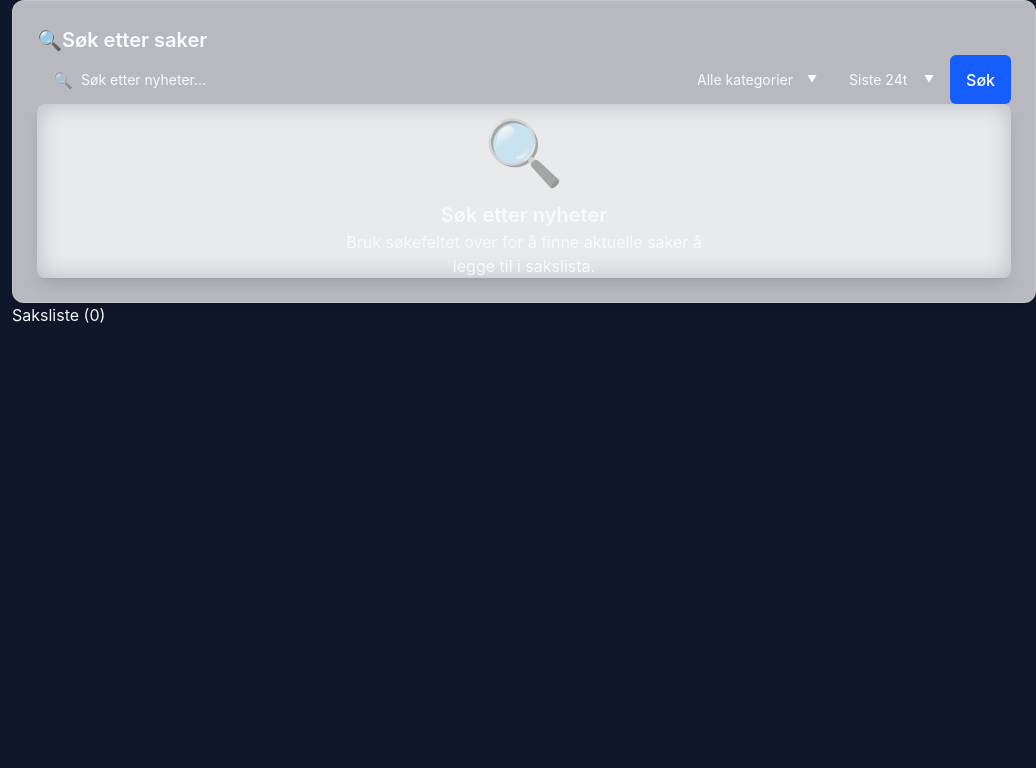
Test: Search to Saksliste Integration › full workflow › allows adding same search result multiple times
In the field with placeholder "Søk etter nyheter...": (359, 80) [37, 55, 681, 104], type "test"
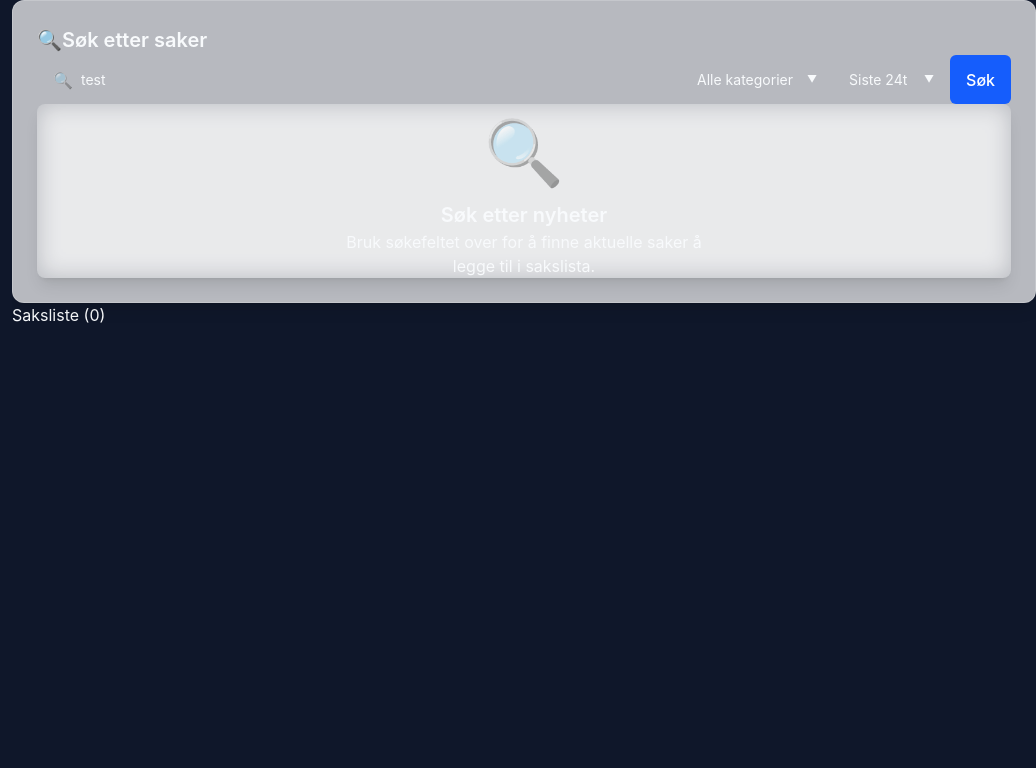
Click the button "Søk": (980, 80) [950, 55, 1011, 104]
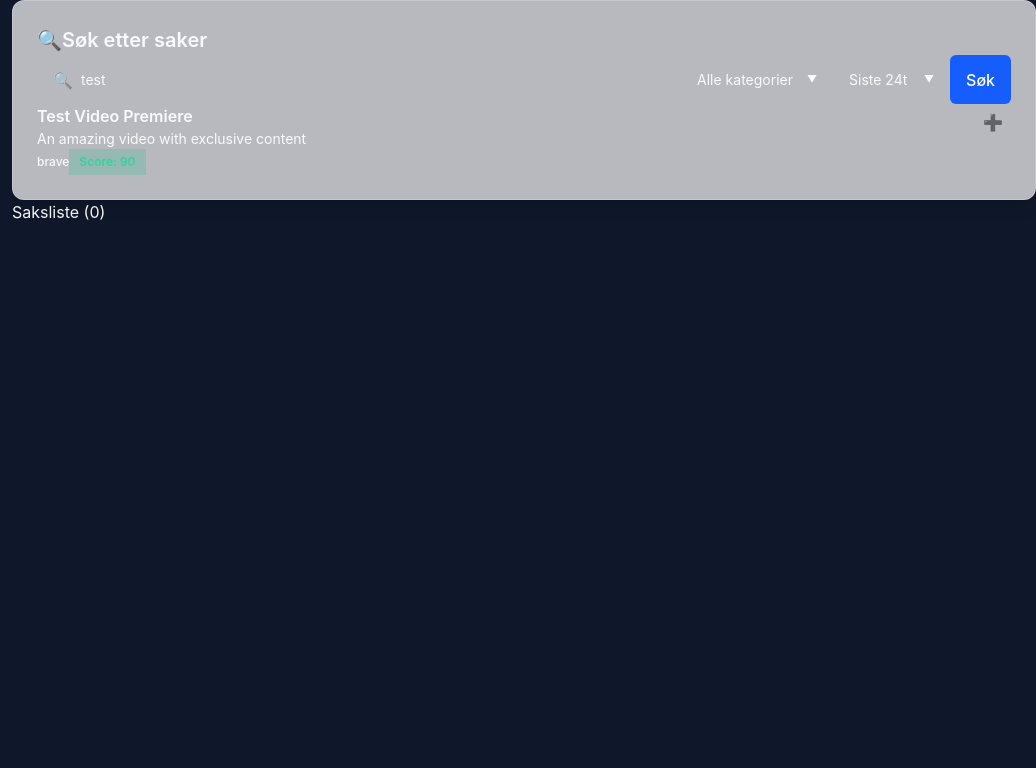
Check: the button named "Legg til Test Video Premiere" is shown
Add same result twice
Click the button named "Legg til Test Video Premiere": (993, 122) [975, 104, 1011, 140]
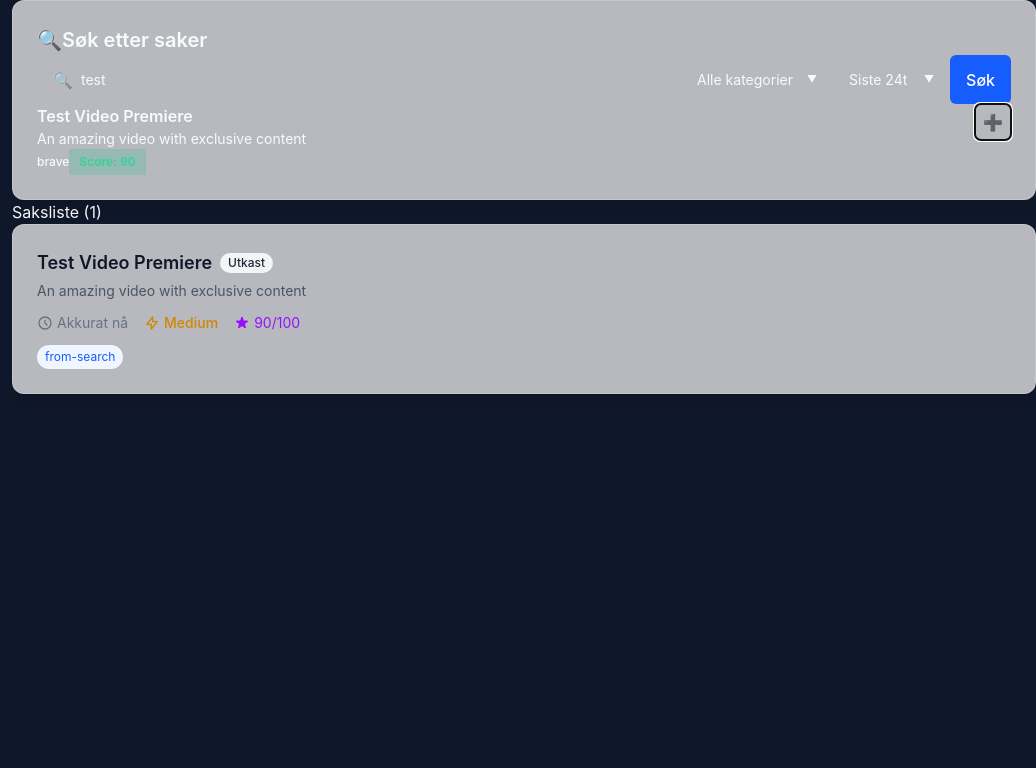
Click the button named "Legg til Test Video Premiere": (993, 122) [975, 104, 1011, 140]
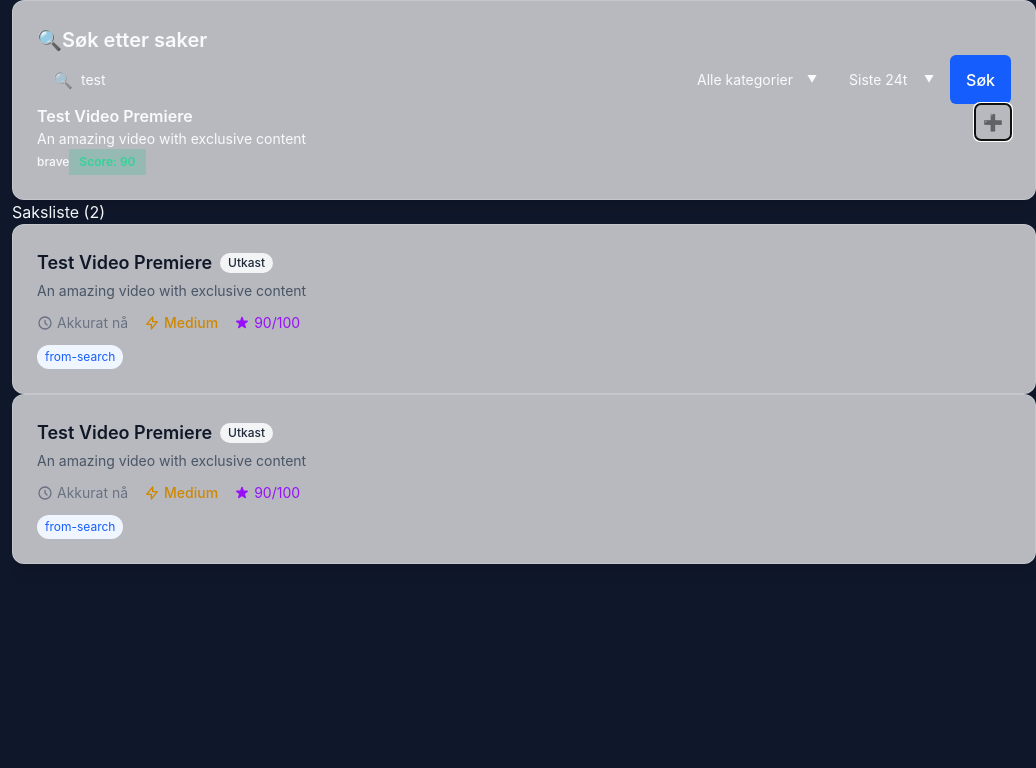
Check: the heading "Saksliste (2)" is shown, box [12, 202, 105, 222]
